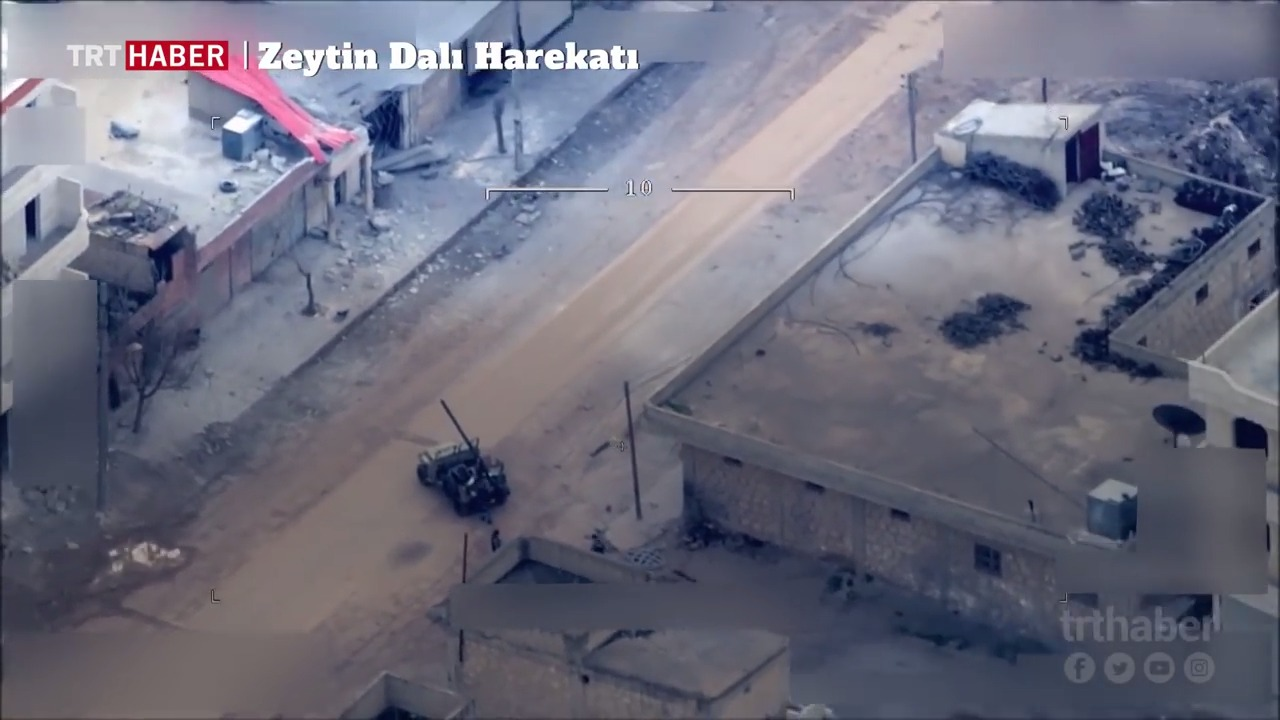arac: (410, 386, 513, 515)
insan: (484, 525, 504, 554)
